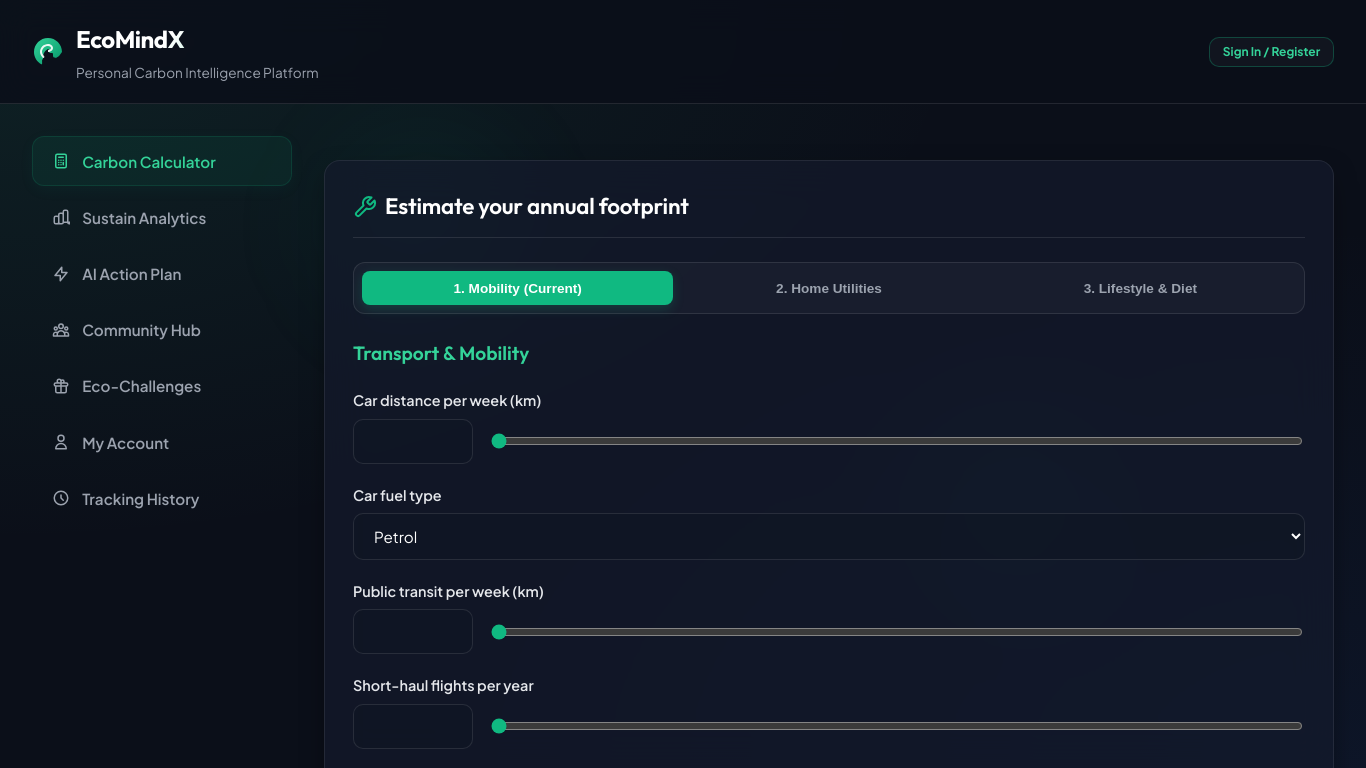
App › navigates to Tracking History and renders successfully
Click the tab "Tracking History".
click(162, 498)  # box [32,473,292,523]
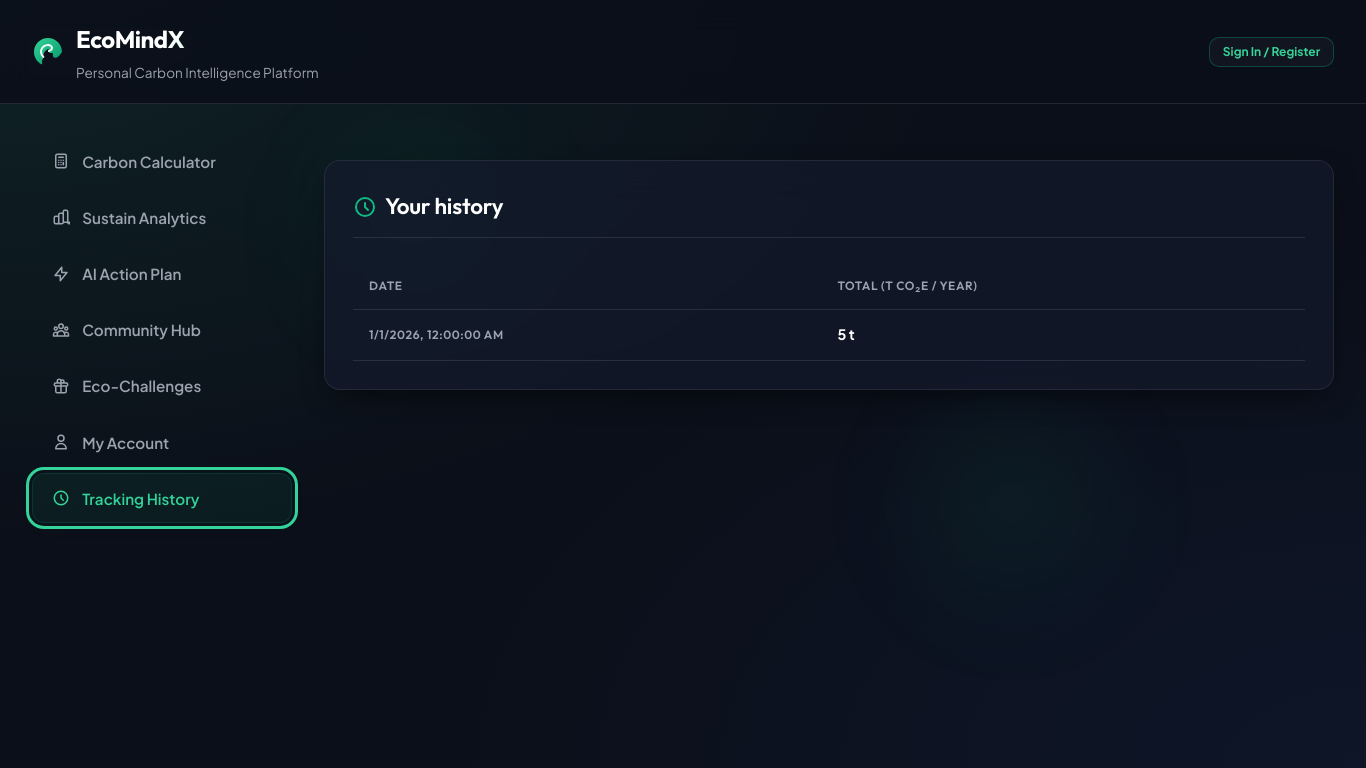
Check: the heading "Your history" is shown, box [353,189,1305,238]
